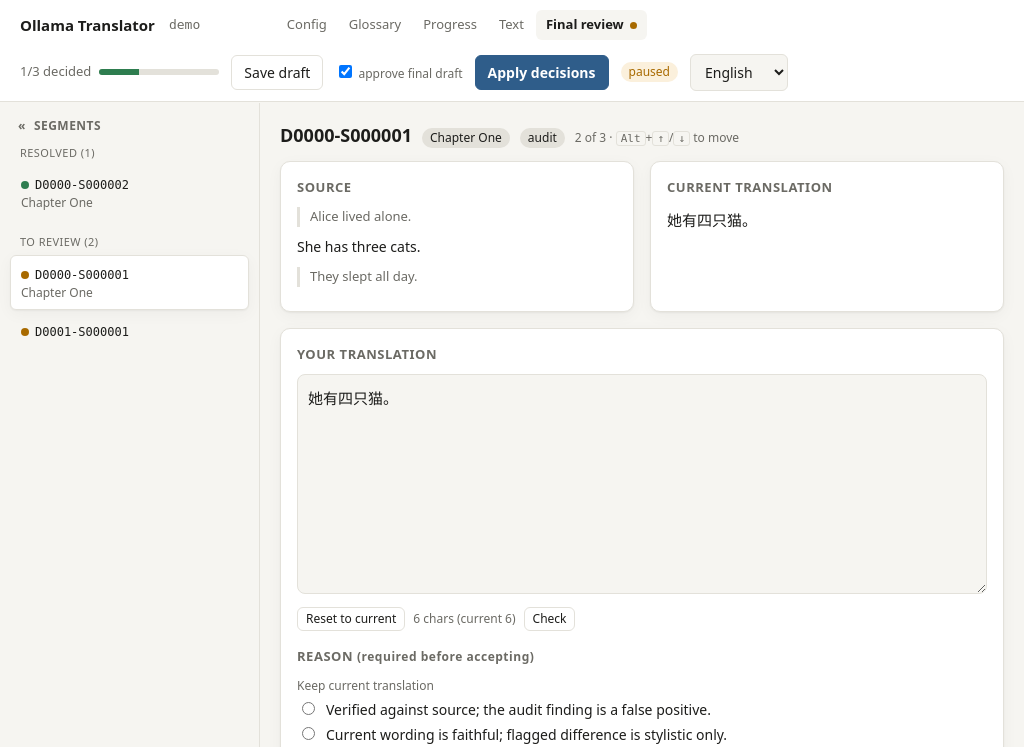
Final review tab › editing and deciding › goes back to pending when the edit is reset
The image size is (1024, 747).
Expected: the heading "Your translation" is shown, top-left (297, 344), bottom-right (437, 362)
Type "！" into the text box at (642,484), box top-left (297, 374), bottom-right (987, 594)
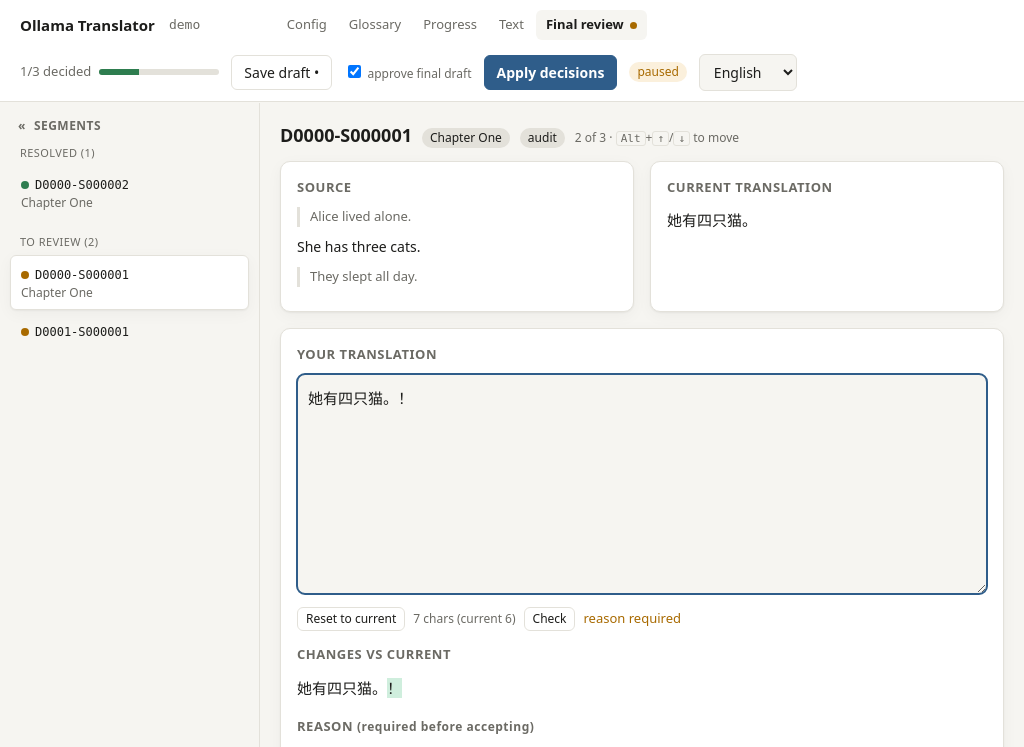
Click the button "Reset to current" at (351,619), box top-left (297, 607), bottom-right (405, 631)
(page scrolled)
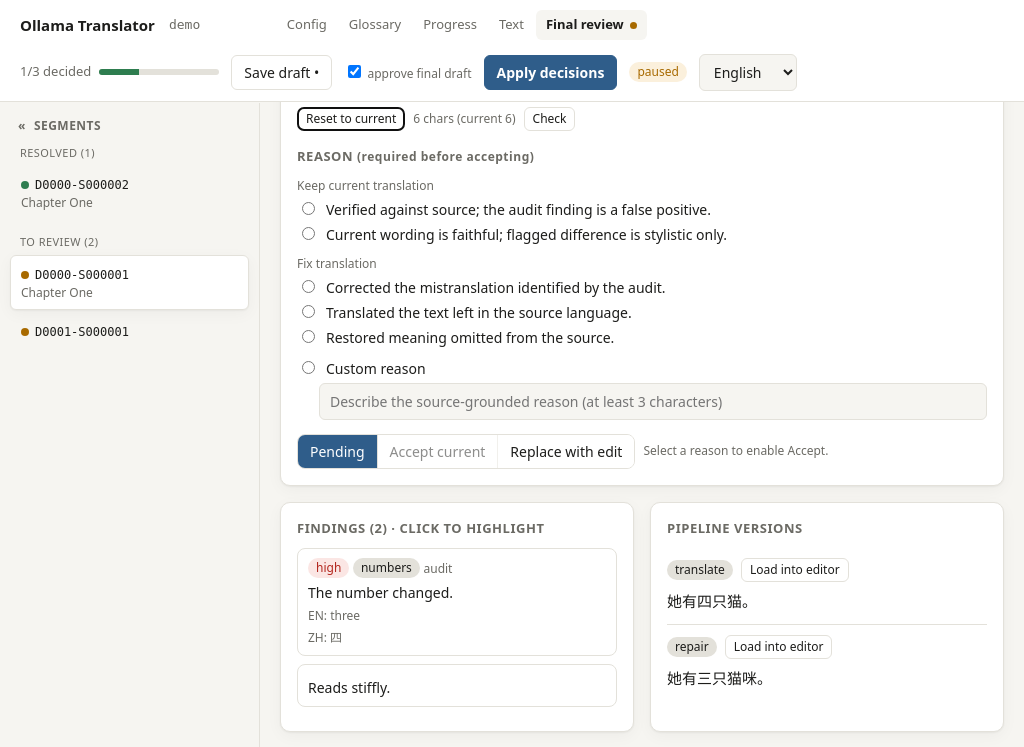
Result: the heading "Changes vs current" is gone
